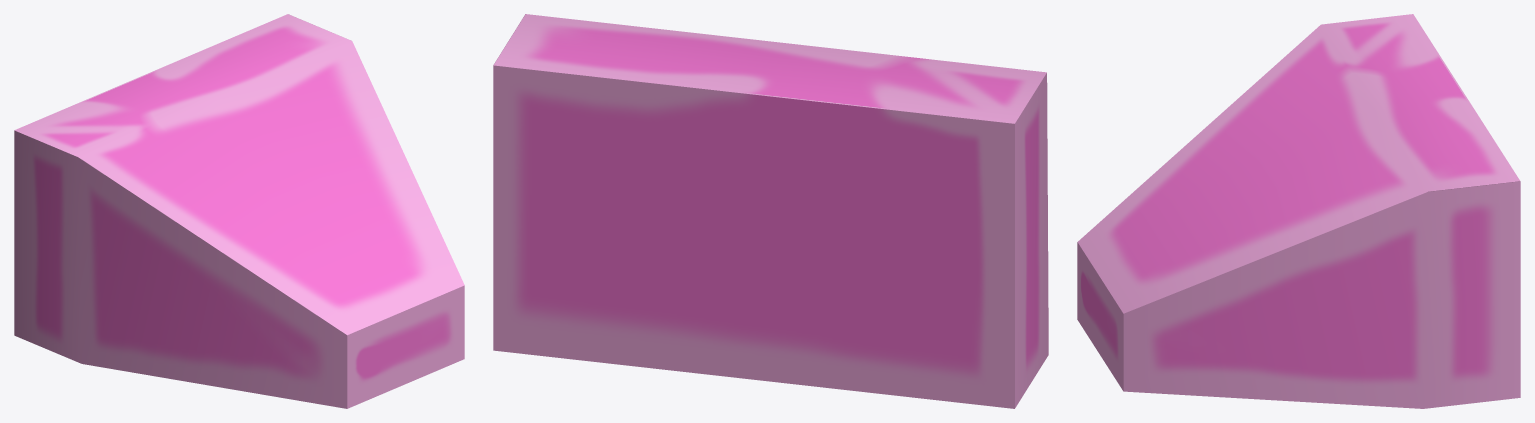
Rendered from Foor L.fbx.
3 views of the same model, side by side, from view 1: azimuth 30°, elevation 25°; view 2: azimuth 150°, elevation 25°; view 3: azimuth 270°, elevation 25° (orthographic). The views are drawn at different scales.
Visible parts, largest first — view 1: Foor L_Baked; view 2: Foor L_Baked; view 3: Foor L_Baked.
Boxes of the visible parts, x1=… form: Foor L_Baked: x1=14, y1=14, x2=464, y2=408; Foor L_Baked: x1=493, y1=14, x2=1048, y2=408; Foor L_Baked: x1=1077, y1=14, x2=1520, y2=408.
Bounding box in the file's own units: 75.73 × 42.89 × 79.49.
1 material, 1 textured.
